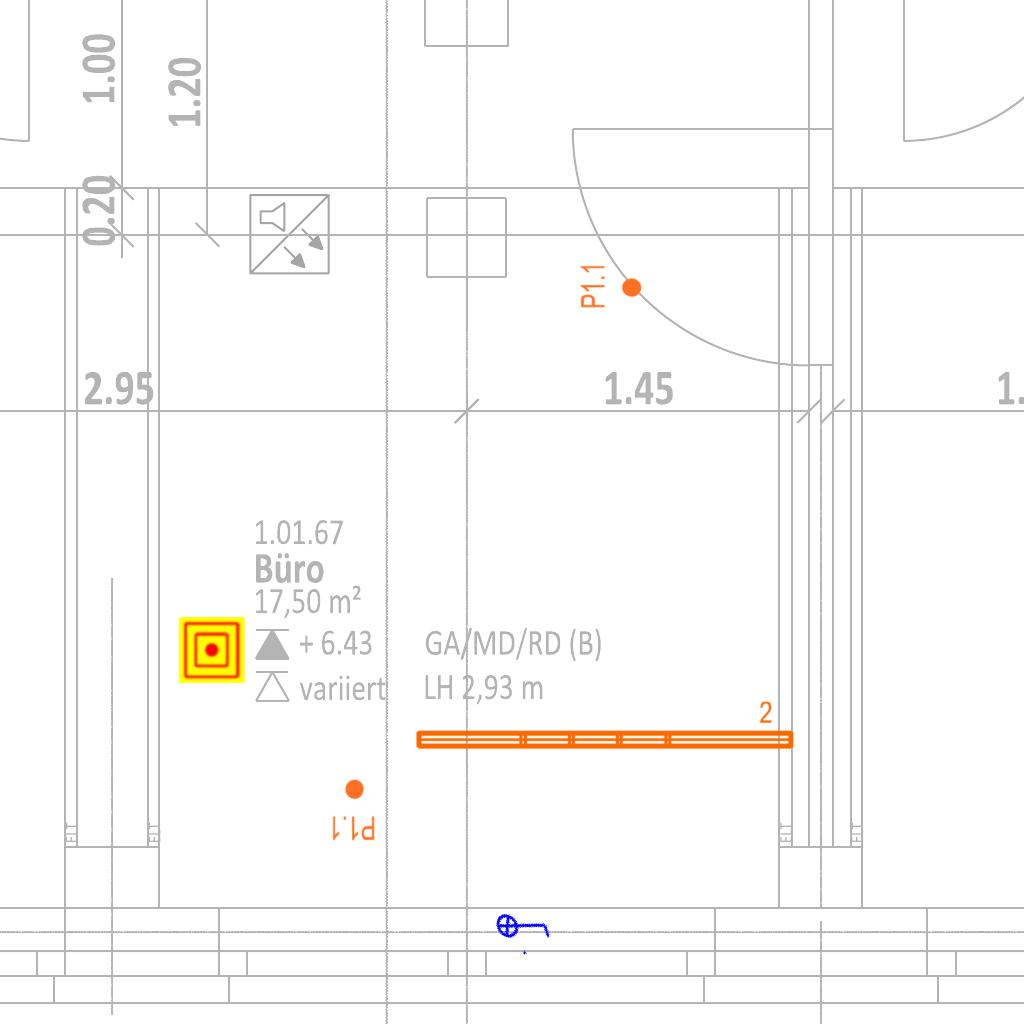Ambulanz_Pendelleuchte_LED: (411, 699, 798, 755)
Ausschalter_beleuchtet: (487, 889, 559, 963)
Downlight_LED_Einbauleuchten_Flur: (330, 778, 376, 842), (579, 263, 643, 309)
NAM-Nichtautomatischer_Melder: (179, 617, 245, 683)
